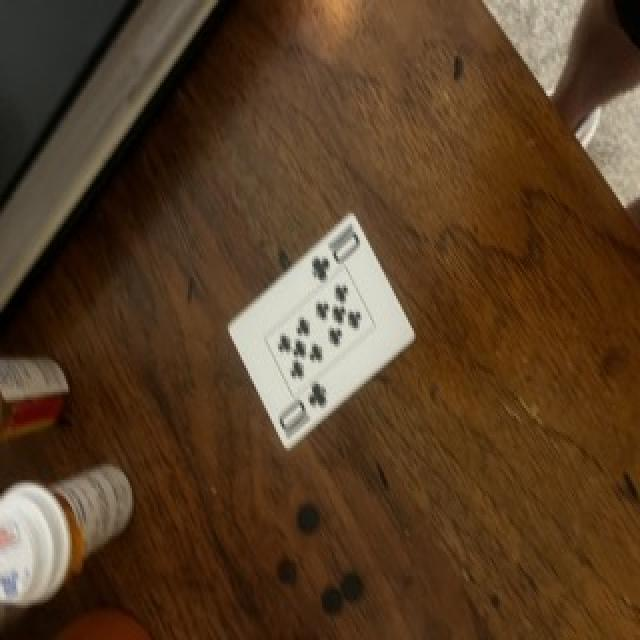10 of clubs: (229, 213, 415, 448)
